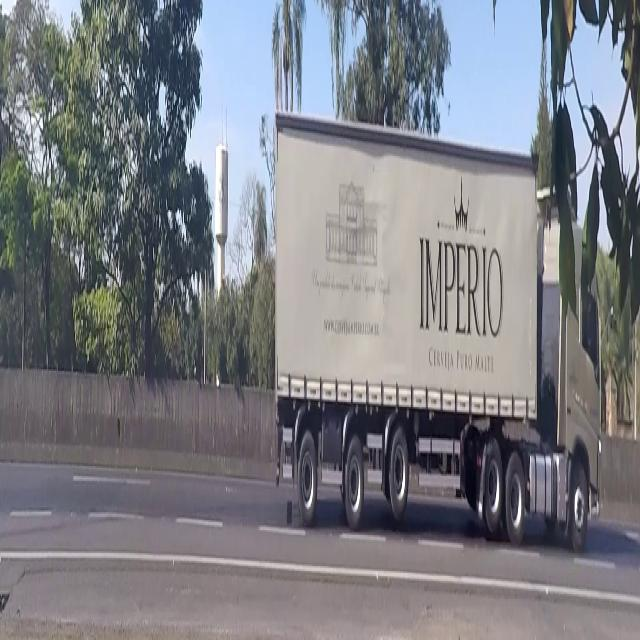-axle: (481, 436, 504, 546), (343, 436, 366, 542), (387, 422, 409, 527), (505, 450, 526, 558), (298, 429, 317, 535), (569, 457, 589, 556)
